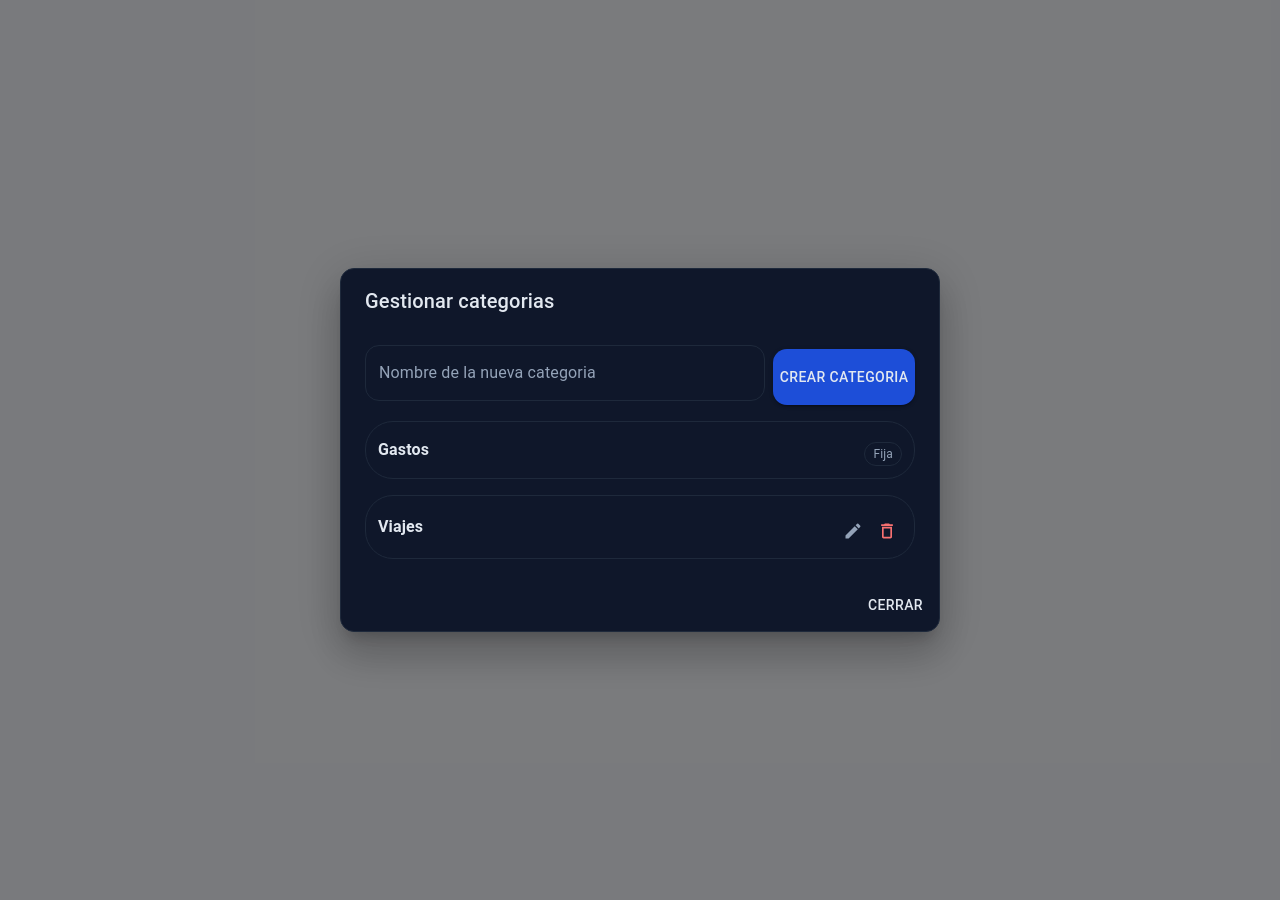
ManageCategoriesModal › rechaza crear una categoría duplicada
Expected: the text "Viajes" is shown, top-left (378, 517), bottom-right (423, 536)
Type "VIAJES" into the field labelled "Nombre de la nueva categoria" at (565,373), box top-left (365, 345), bottom-right (765, 401)
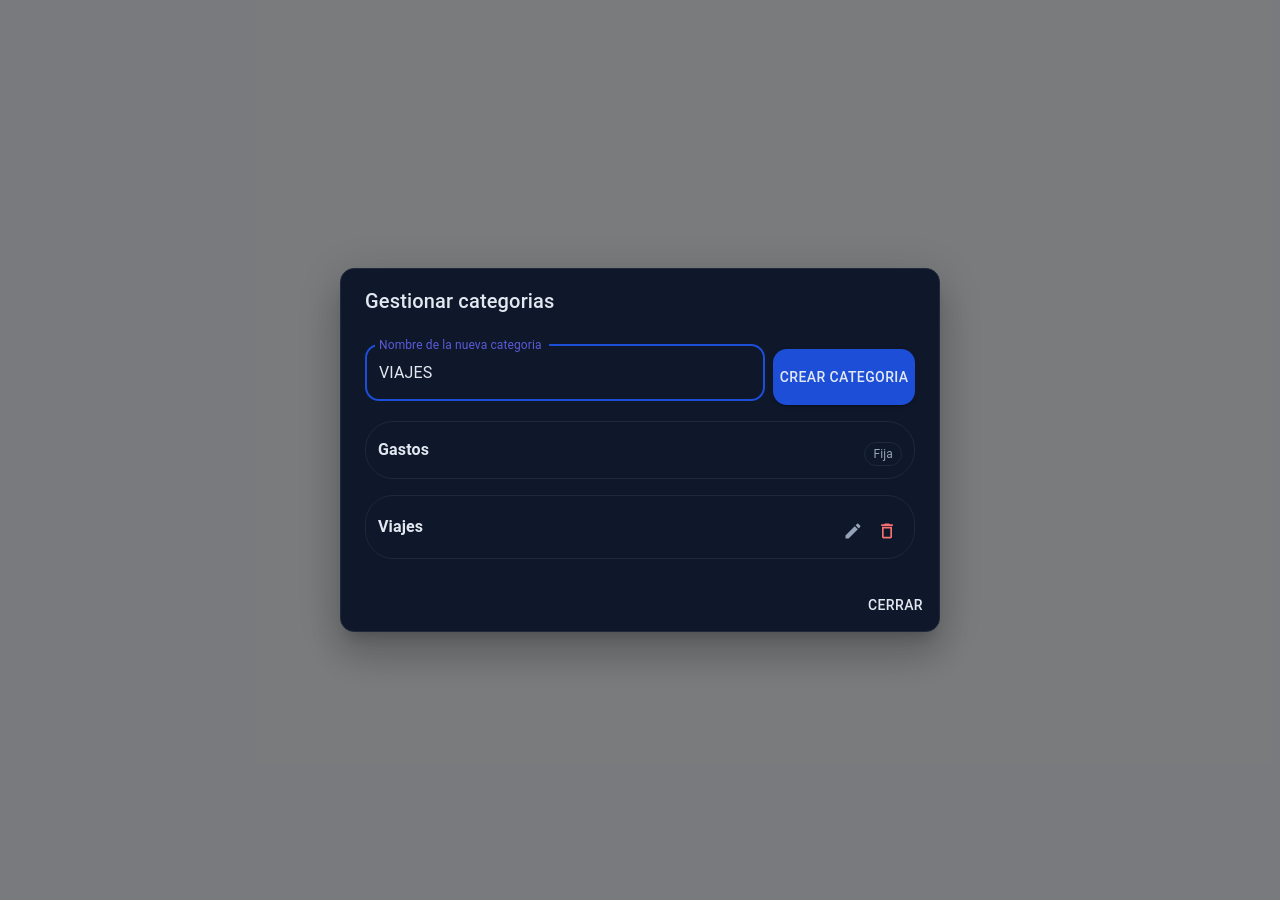
Click the button "Crear categoria" at (844,377), box top-left (773, 349), bottom-right (915, 405)
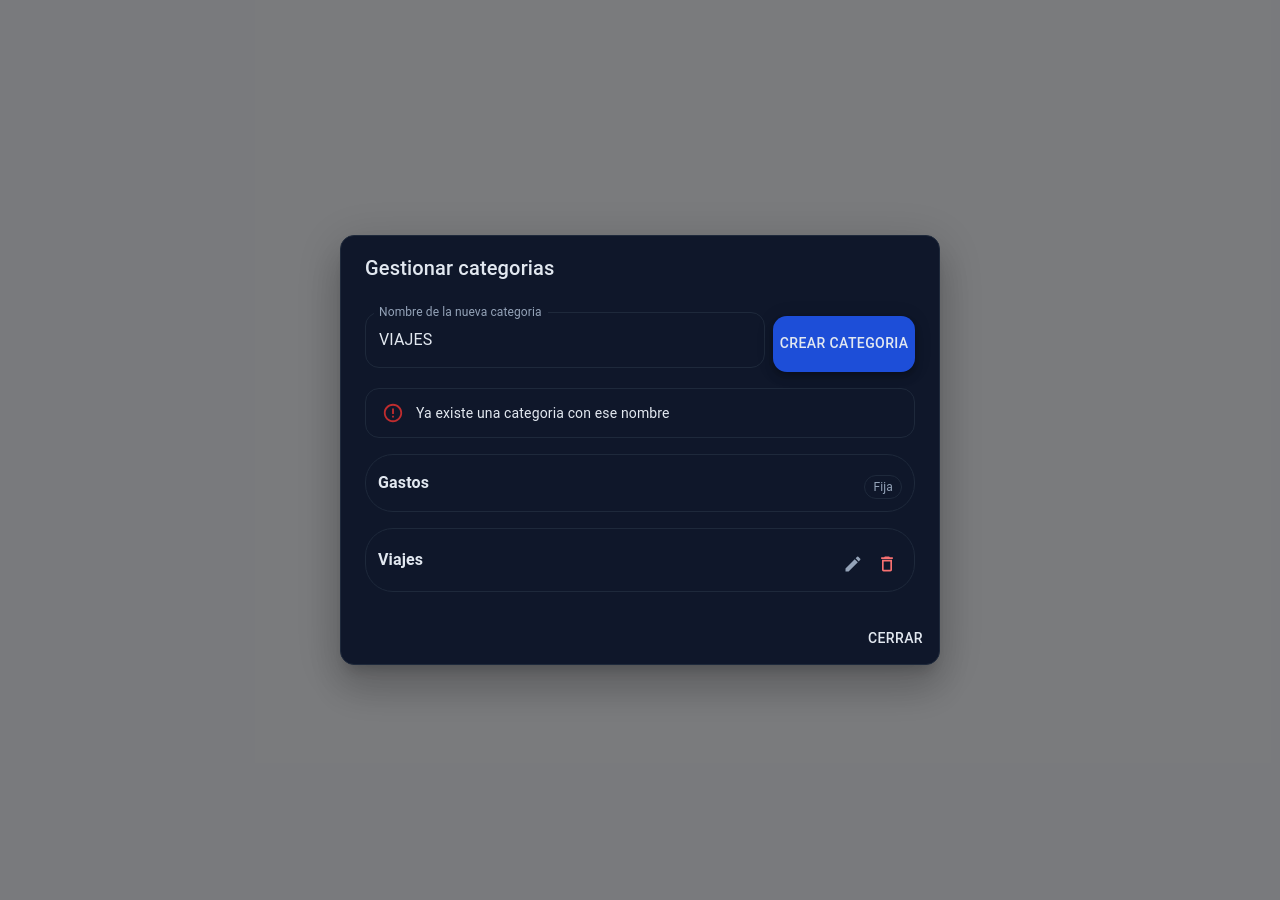
Expected: the text "Ya existe una categoria con ese nombre" is shown, top-left (416, 405), bottom-right (670, 421)
